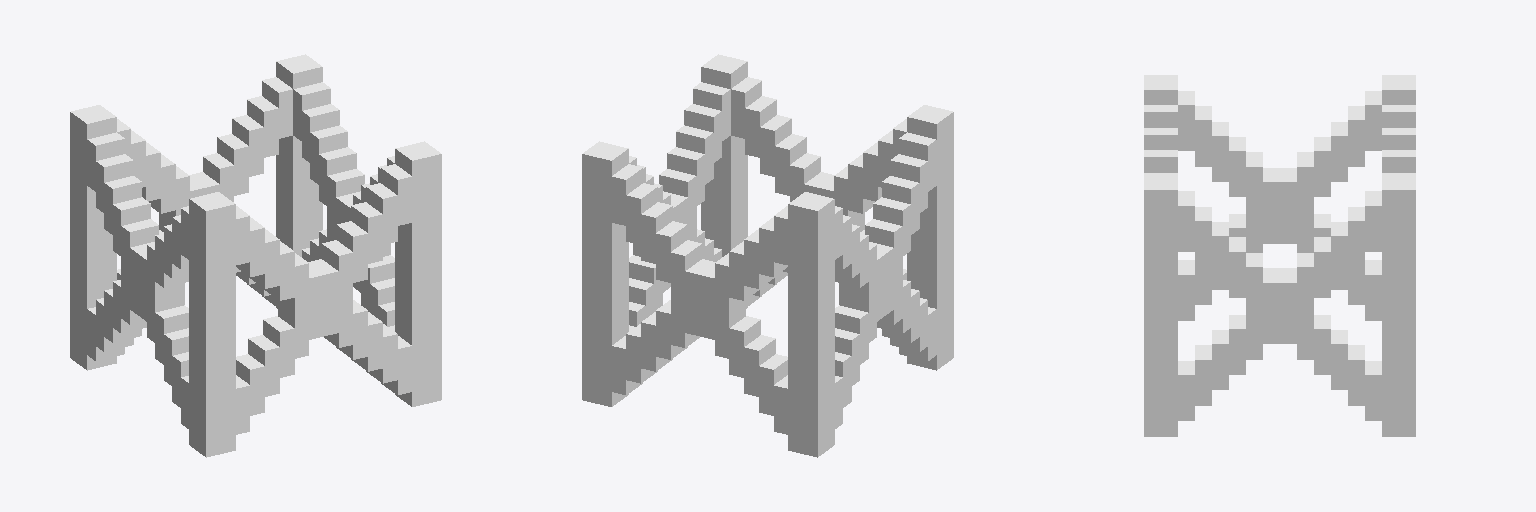
The model's file is scaffold000(16,16,16).obj.
3 views of the same model, side by side, from view 1: azimuth 30°, elevation 25°; view 2: azimuth 150°, elevation 25°; view 3: azimuth 270°, elevation 25° (orthographic).
Size of the model in its own units: 16 by 16 by 16.